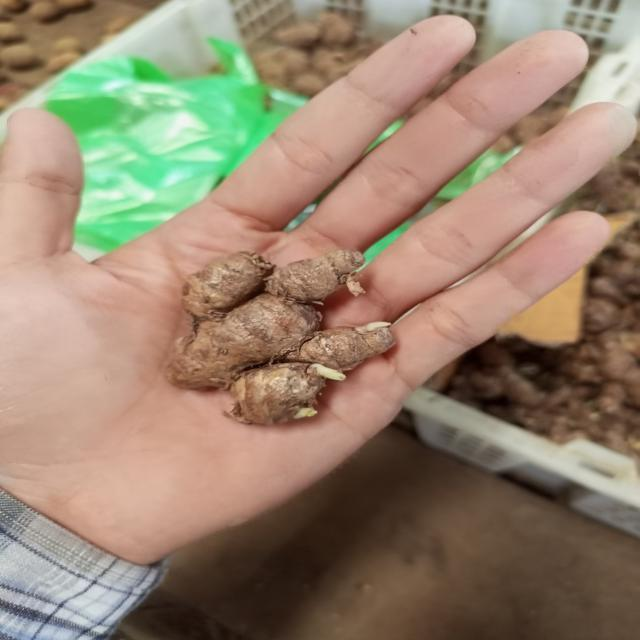ginger: (180, 257, 380, 412)
